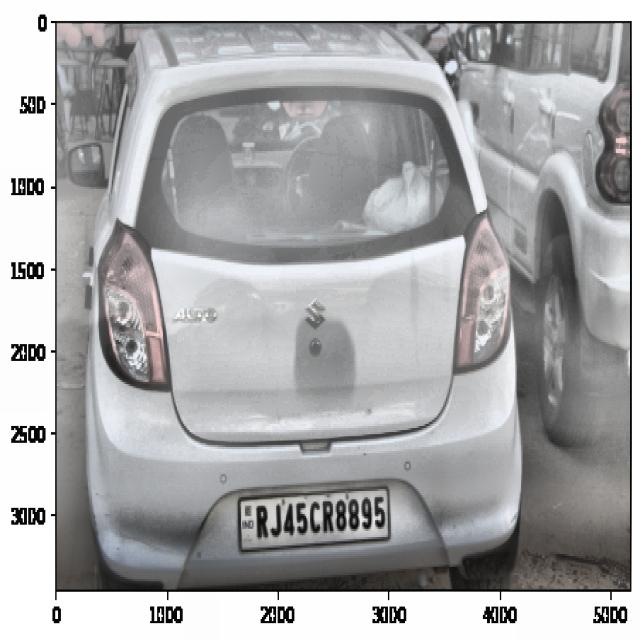license_plate: (250, 492, 389, 543)
